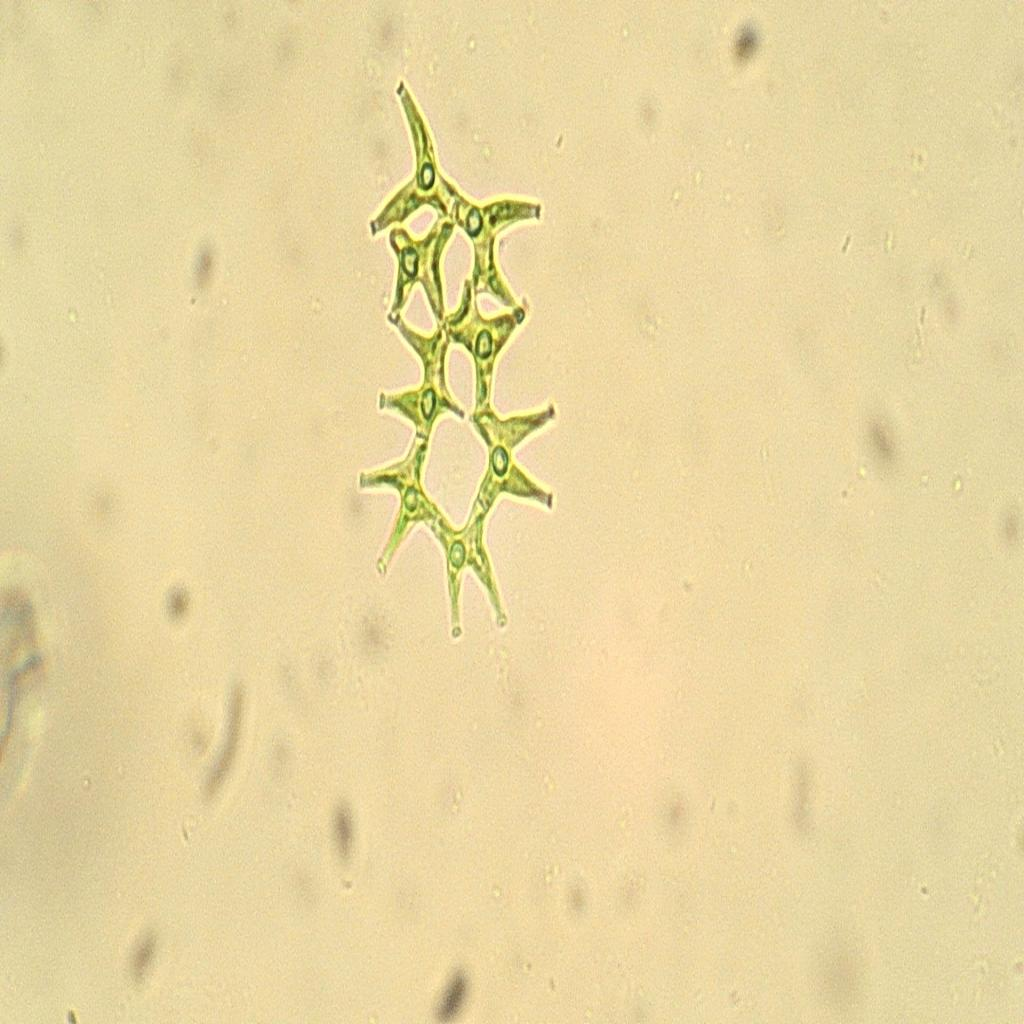Pediastrum_CFI: (338, 70, 567, 661)
